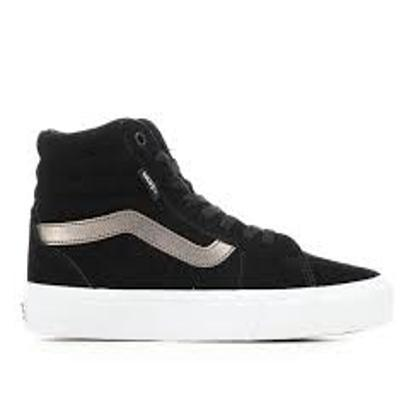not trash: (19, 118, 392, 343)
